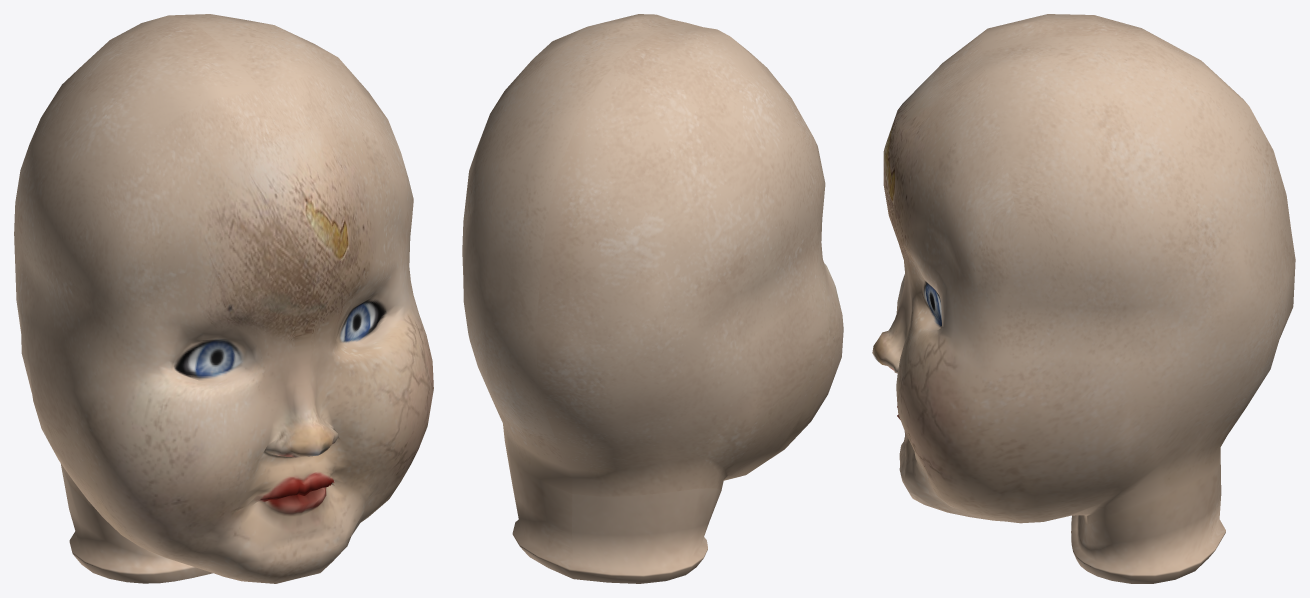
Rendered from BBDoll_Final.FBX.
3 renders of one model, left to right at view 1: azimuth 30°, elevation 25°; view 2: azimuth 150°, elevation 25°; view 3: azimuth 270°, elevation 25°, orthographic. The views are drawn at different scales.
Visible parts, largest first — view 1: Box001; view 2: Box001; view 3: Box001.
Boxes of the visible parts, left/top/right/bottom form: Box001: left=14, top=14, right=433, bottom=583; Box001: left=462, top=14, right=843, bottom=583; Box001: left=872, top=14, right=1295, bottom=583.
Bounding box in the file's own units: 18.44 × 28.27 × 21.34.
Materials: 1 (1 with a texture image).
